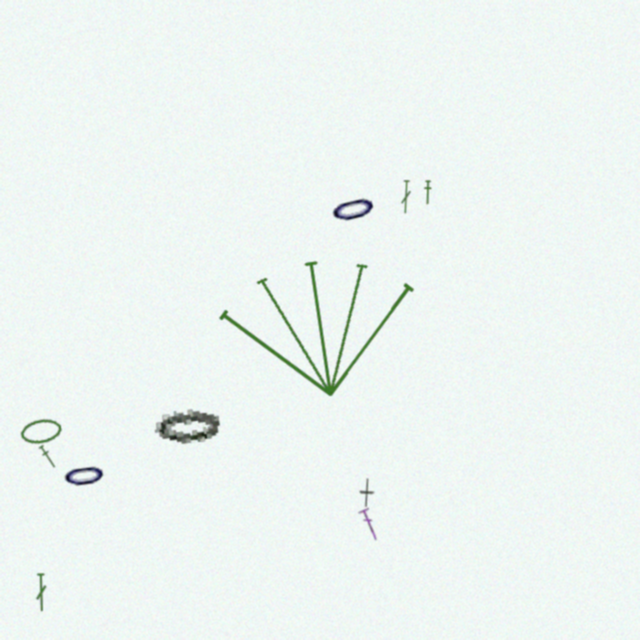chain: (153, 405, 221, 446), (326, 186, 381, 231), (60, 456, 109, 494), (19, 416, 63, 447)
double: (358, 506, 381, 542), (34, 573, 48, 612), (400, 180, 412, 214)
fan: (204, 226, 435, 413)
half_double: (37, 443, 59, 470), (423, 180, 432, 205)
single: (359, 478, 375, 508)
